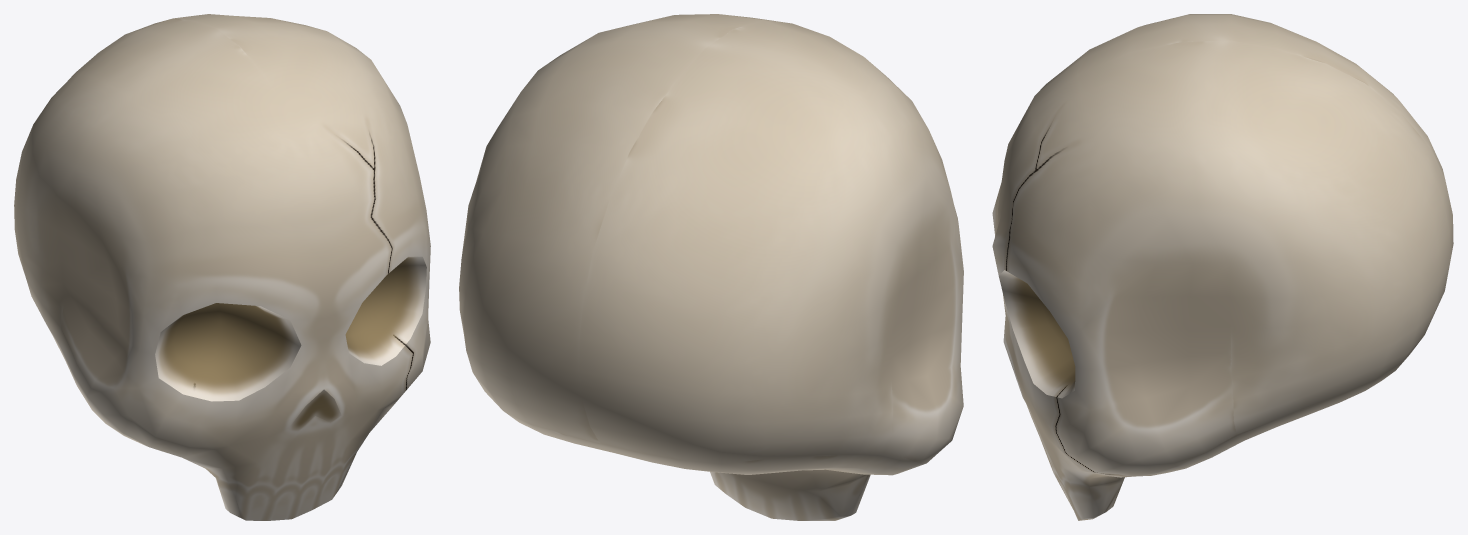
Rendered from Skull.fbx.
The picture shows the model from 3 angles, left to right: view 1: azimuth 30°, elevation 25°; view 2: azimuth 150°, elevation 25°; view 3: azimuth 270°, elevation 25°; orthographic projection. The views are drawn at different scales.
Parts seen in each view (by area): view 1: Skull.001; view 2: Skull.001; view 3: Skull.001.
Boxes of the visible parts, x1,y1,x2,y2 form: Skull.001: [14, 14, 430, 520]; Skull.001: [459, 14, 963, 520]; Skull.001: [992, 14, 1453, 520].
Bounding box in the file's own units: 70.52 × 89.29 × 80.15.
